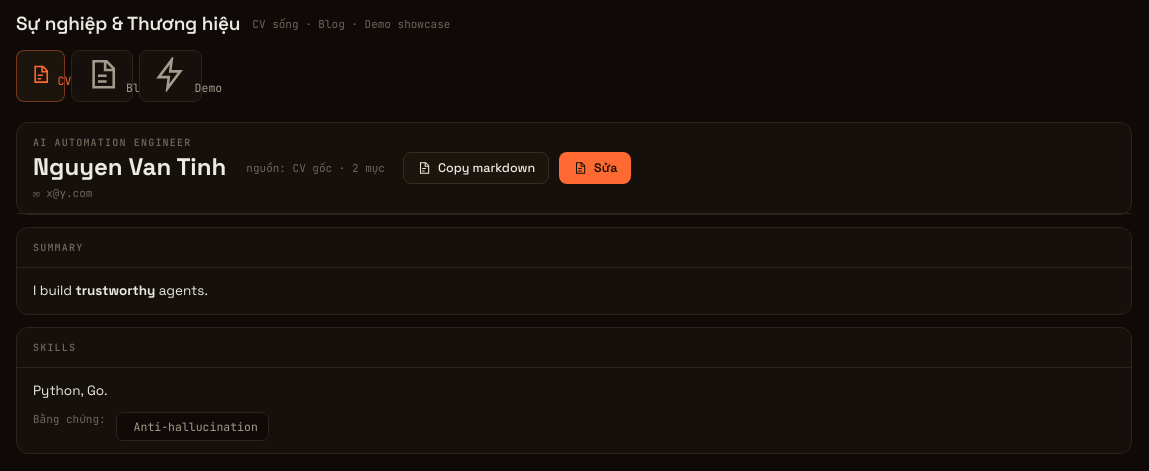
Scenario: CAR-1 Career — Blog tab › switches to blog tab and renders post cards
Click the button with test id "tab-blog" at (102, 76), box [71,50,133,102]
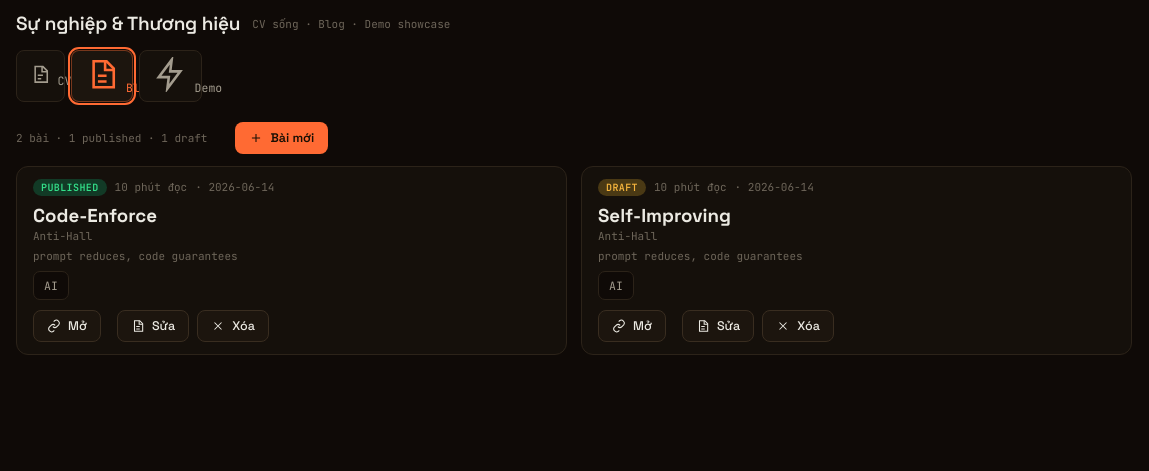
Expected: the element with test id "blog-tab" is shown, [16,122,1132,354]
Expected: the heading "Code-Enforce" is shown, [33,204,157,226]
Expected: the heading "Self-Improving" is shown, [598,204,731,226]
